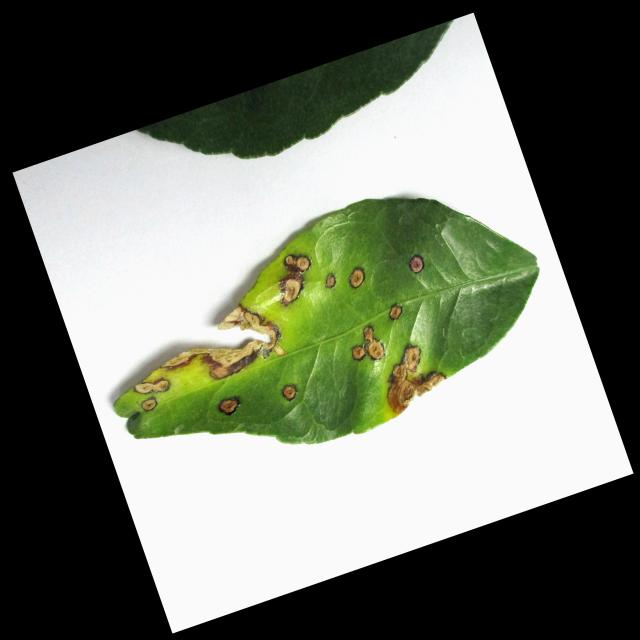antracnose: (114, 198, 539, 444), (388, 345, 446, 413), (218, 305, 286, 354), (163, 340, 262, 371), (281, 254, 310, 306), (352, 326, 385, 360), (134, 379, 170, 394), (219, 397, 239, 415), (350, 267, 365, 288), (409, 255, 424, 273), (282, 385, 297, 401), (141, 397, 157, 411), (389, 304, 403, 320), (326, 273, 335, 288)
